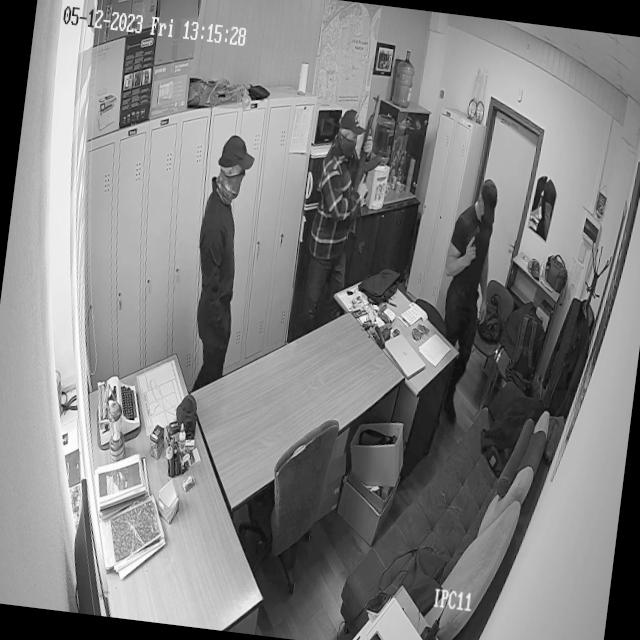gun: (345, 93, 382, 210), (461, 224, 483, 276)
person: (177, 140, 259, 395)
person with a gun: (296, 83, 385, 323), (430, 175, 505, 424)
